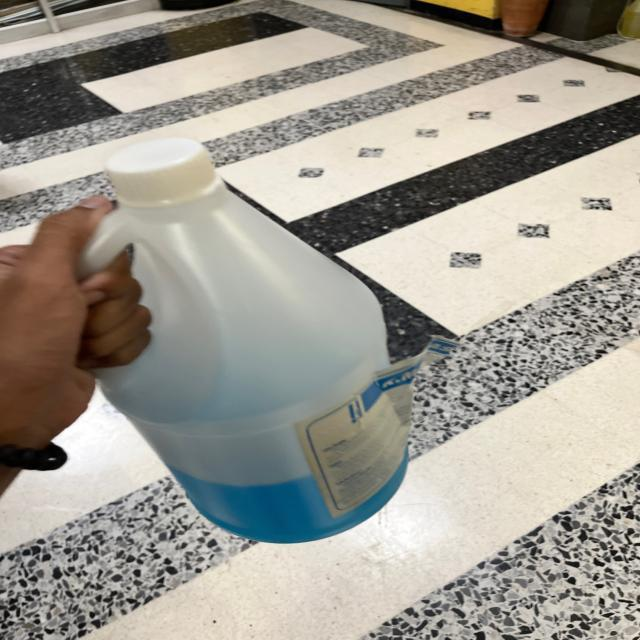HDPE Plastic: (81, 143, 421, 545)
